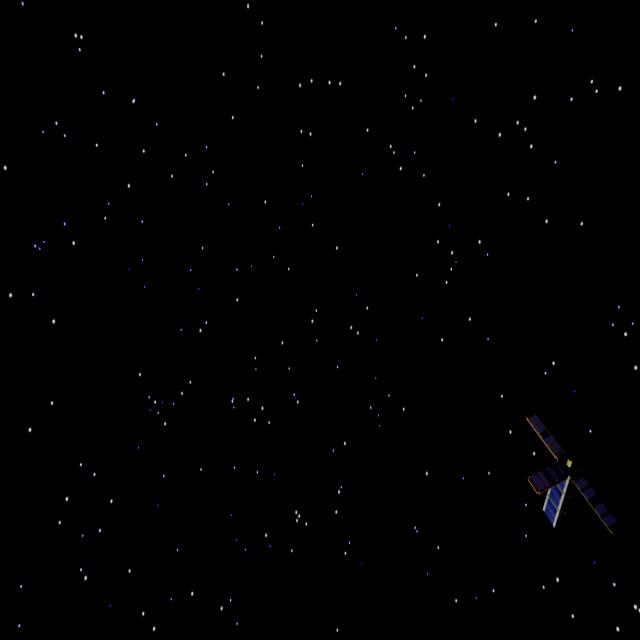satellite: (510, 409, 624, 547)
